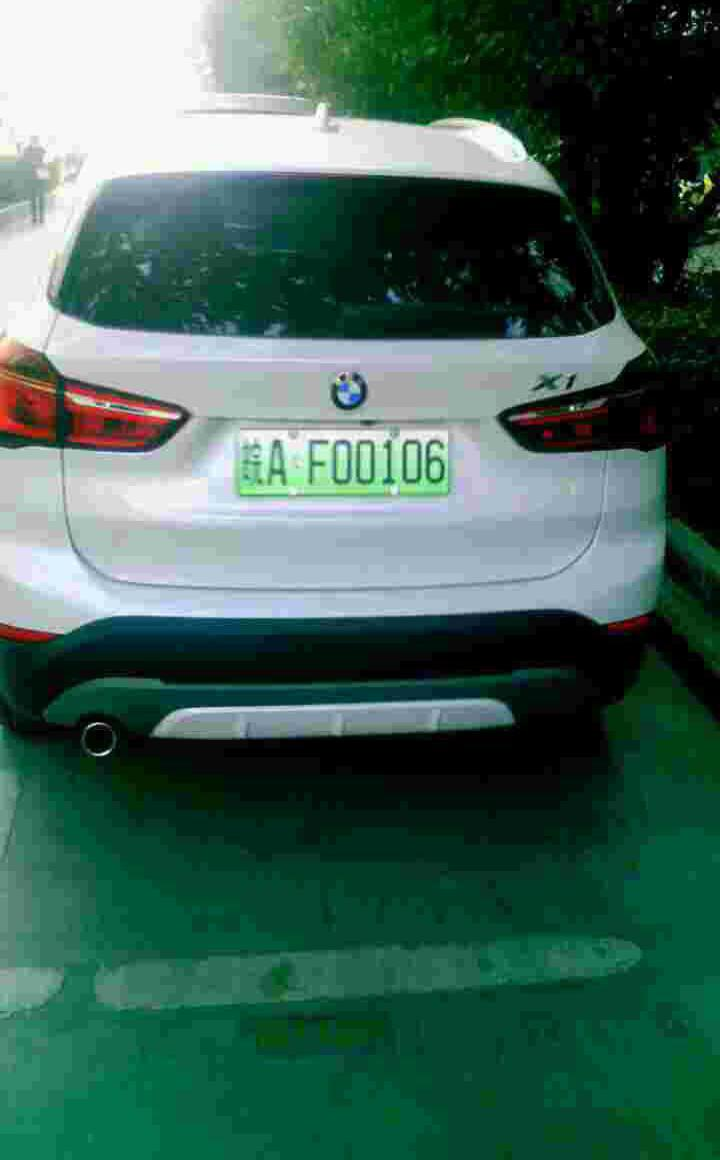car_green: (233, 426, 455, 492)
